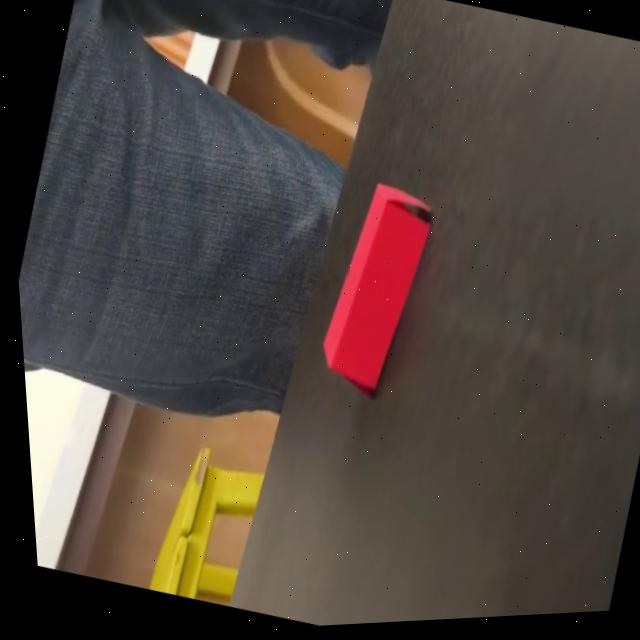red block: (299, 169, 451, 404)
